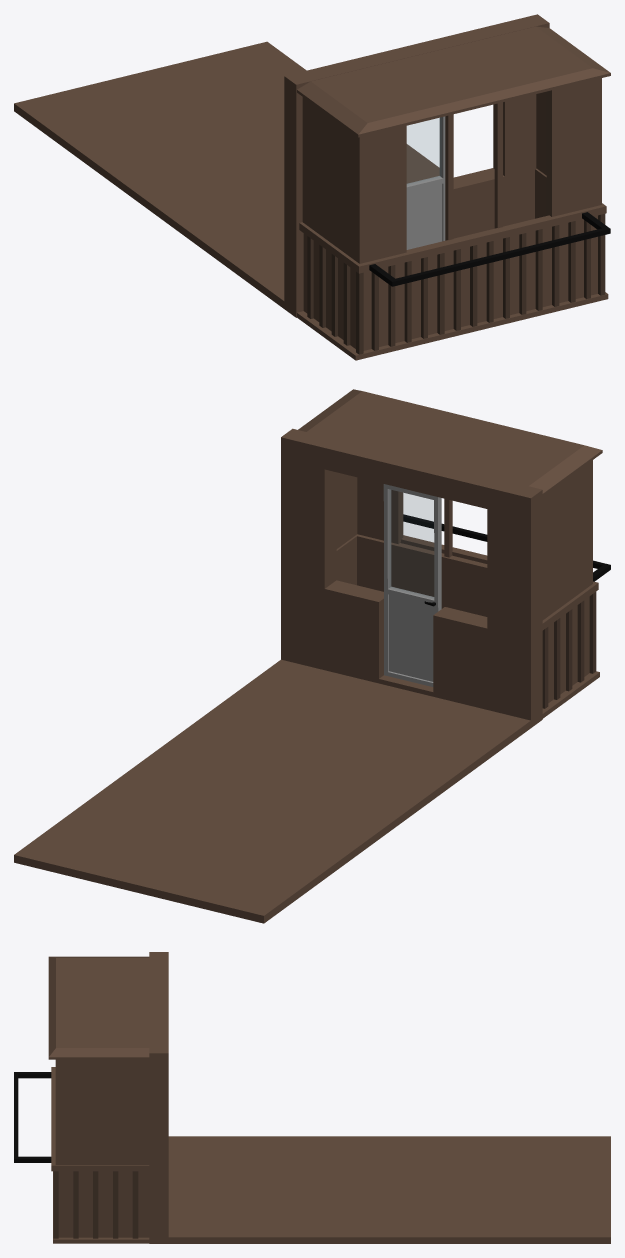
File: Middle_floor_Balcony_type1.FBX
The picture shows the model from 3 angles, top to bottom: view 1: azimuth 30°, elevation 25°; view 2: azimuth 150°, elevation 25°; view 3: azimuth 270°, elevation 25°; orthographic projection. The views are drawn at different scales.
Visible parts, largest first — view 1: Hub_3_balcony_022, Balcony_door_007; view 2: Hub_3_balcony_022, Balcony_door_007; view 3: Hub_3_balcony_022.
Part boxes in pixels (<box>): Hub_3_balcony_022: <box>14,14,610,360</box>; Balcony_door_007: <box>406,116,445,249</box>; Hub_3_balcony_022: <box>14,389,610,923</box>; Balcony_door_007: <box>383,484,441,686</box>; Hub_3_balcony_022: <box>14,952,610,1243</box>.
Bounding box in the file's own units: 319 × 795 × 280.
